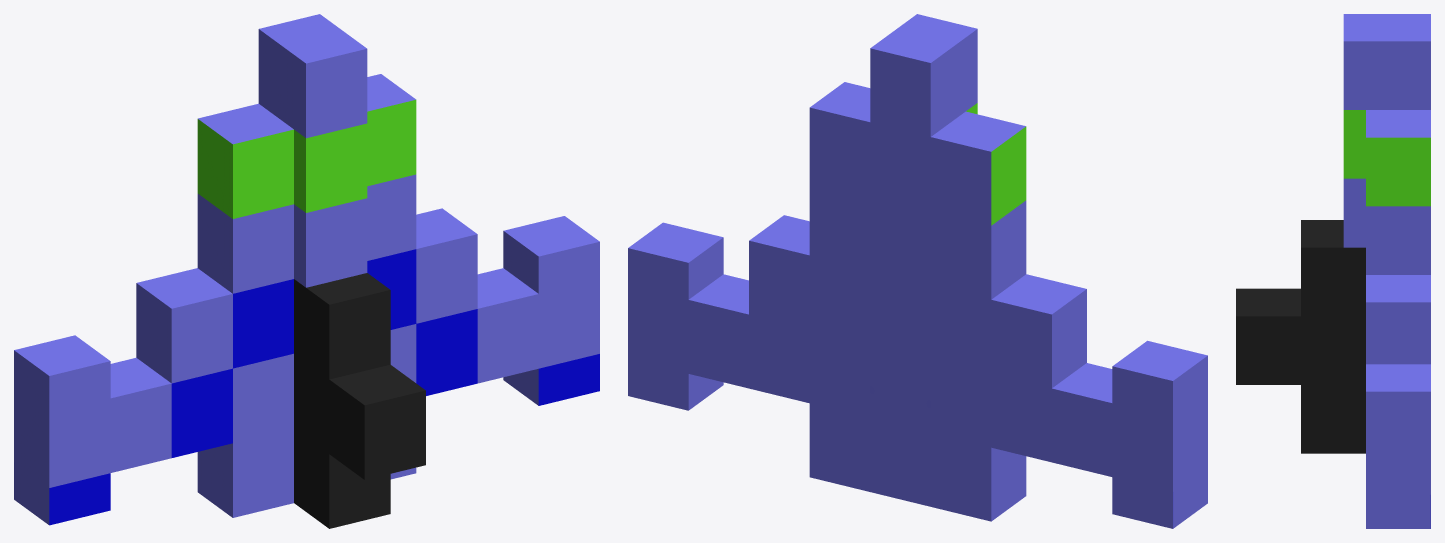
The model's file is Player_1.glb.
3 views of the same model, side by side, from view 1: azimuth 30°, elevation 25°; view 2: azimuth 150°, elevation 25°; view 3: azimuth 270°, elevation 25° (orthographic). The views are drawn at different scales.
Visible parts, largest first — view 1: Player_1; view 2: Player_1; view 3: Player_1.
Part boxes in pixels (x1,y1,x2,y2): Player_1: [14, 14, 599, 528]; Player_1: [628, 14, 1207, 528]; Player_1: [1236, 14, 1430, 528].
Size of the model in its own units: 8 by 6.23 by 2.67.
1 material, 1 textured.
